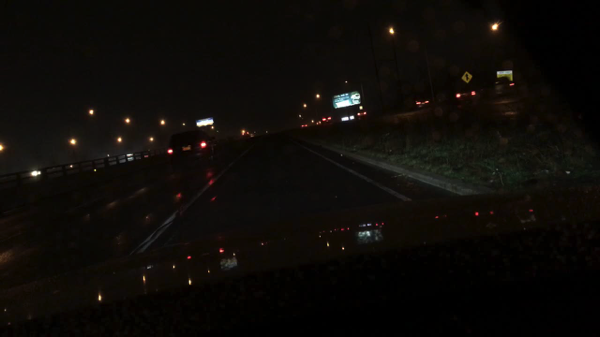car: (165, 129, 221, 169), (452, 89, 477, 106), (489, 77, 512, 95), (411, 100, 429, 109), (318, 115, 332, 125), (358, 109, 366, 118), (242, 130, 250, 137), (301, 124, 308, 128)
traffic sign: (195, 117, 214, 127), (461, 72, 473, 84)
